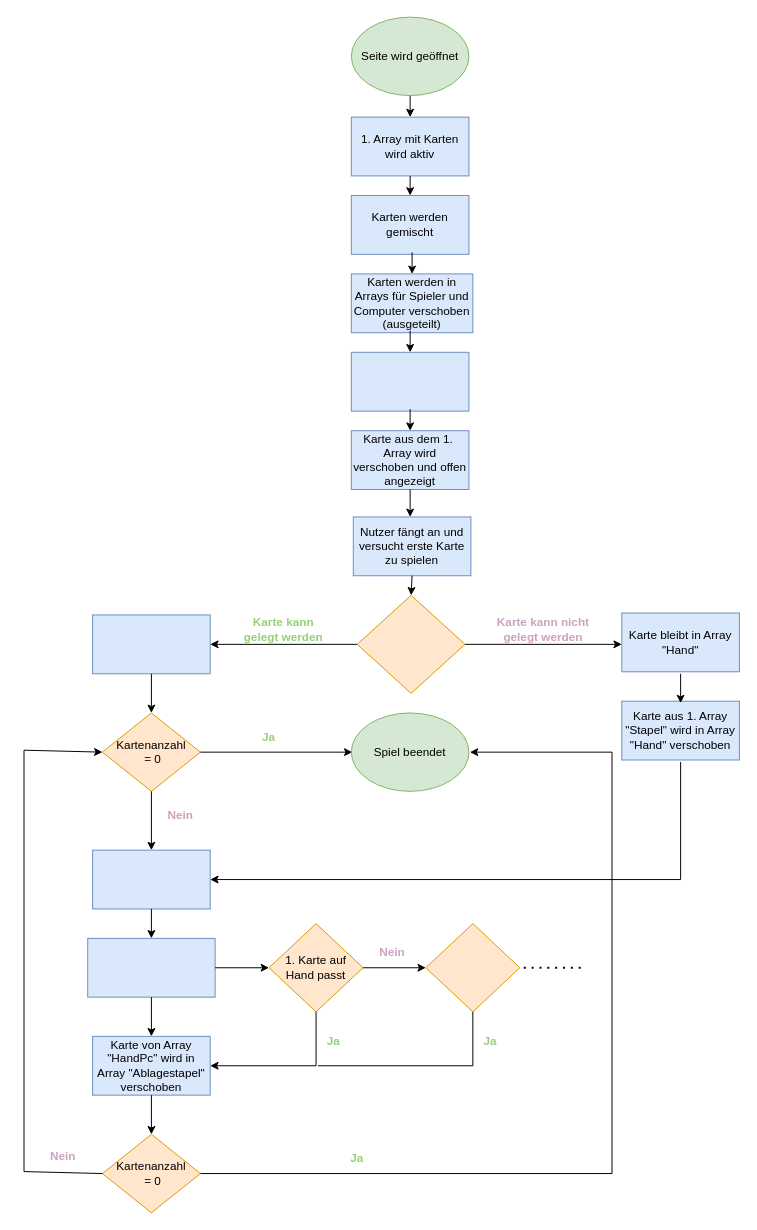
The diagram is 757 pixels wide and 1230 high, and some of its shapes have lost their labels. The shapes that lost their labels are listed below. From the top down, each one's centre as x and y in pixels, then its label:
point (409, 381): 4. Array mit Ablagestapel wird aktiv
point (151, 644): Karte wird abgelegt und wechselt in 4. Array (Ablagestapel)
point (410, 643): Karten werden verglichen
point (151, 879): Computer versucht Karte zu spielen
point (151, 967): Karten auf "Hand" werden mit offener Karte auf Ablagestapel verglichen
point (472, 967): 2. Karte auf Hand passt
